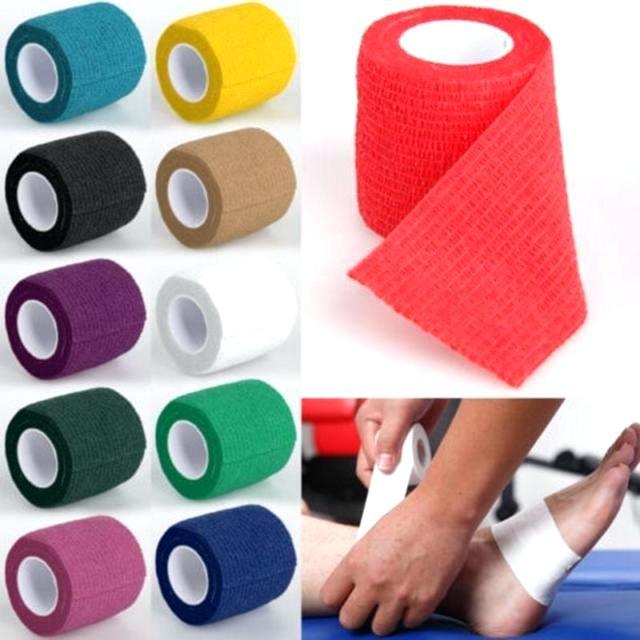bandage: (345, 6, 589, 388), (153, 507, 297, 631), (3, 513, 145, 635), (7, 384, 144, 510), (158, 0, 299, 122), (154, 380, 297, 500), (5, 3, 149, 122), (4, 259, 148, 377), (8, 129, 145, 250), (160, 258, 300, 376), (158, 129, 295, 249), (350, 425, 428, 565), (493, 488, 578, 612)
